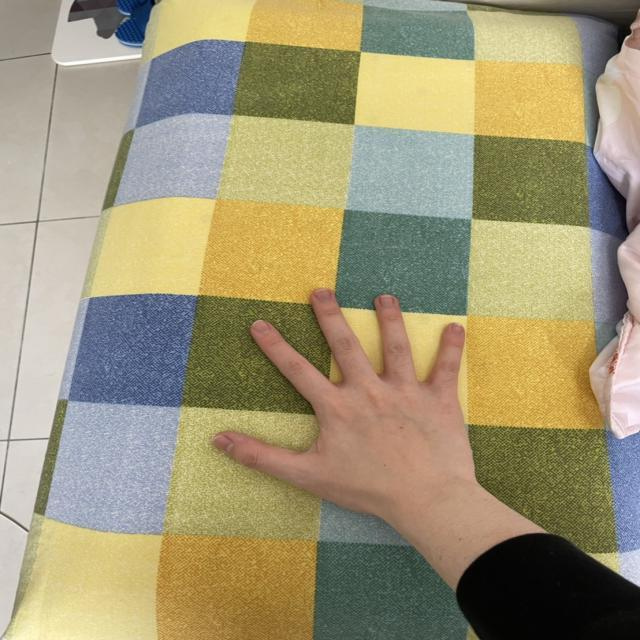hand: (185, 276, 493, 544)
